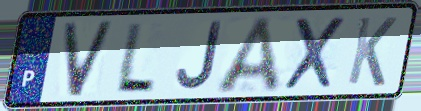A: (212, 14, 285, 96)
J: (174, 19, 225, 92)
K: (344, 14, 400, 89)
L: (111, 20, 158, 94)
V: (61, 18, 117, 100)
X: (280, 14, 348, 93)
